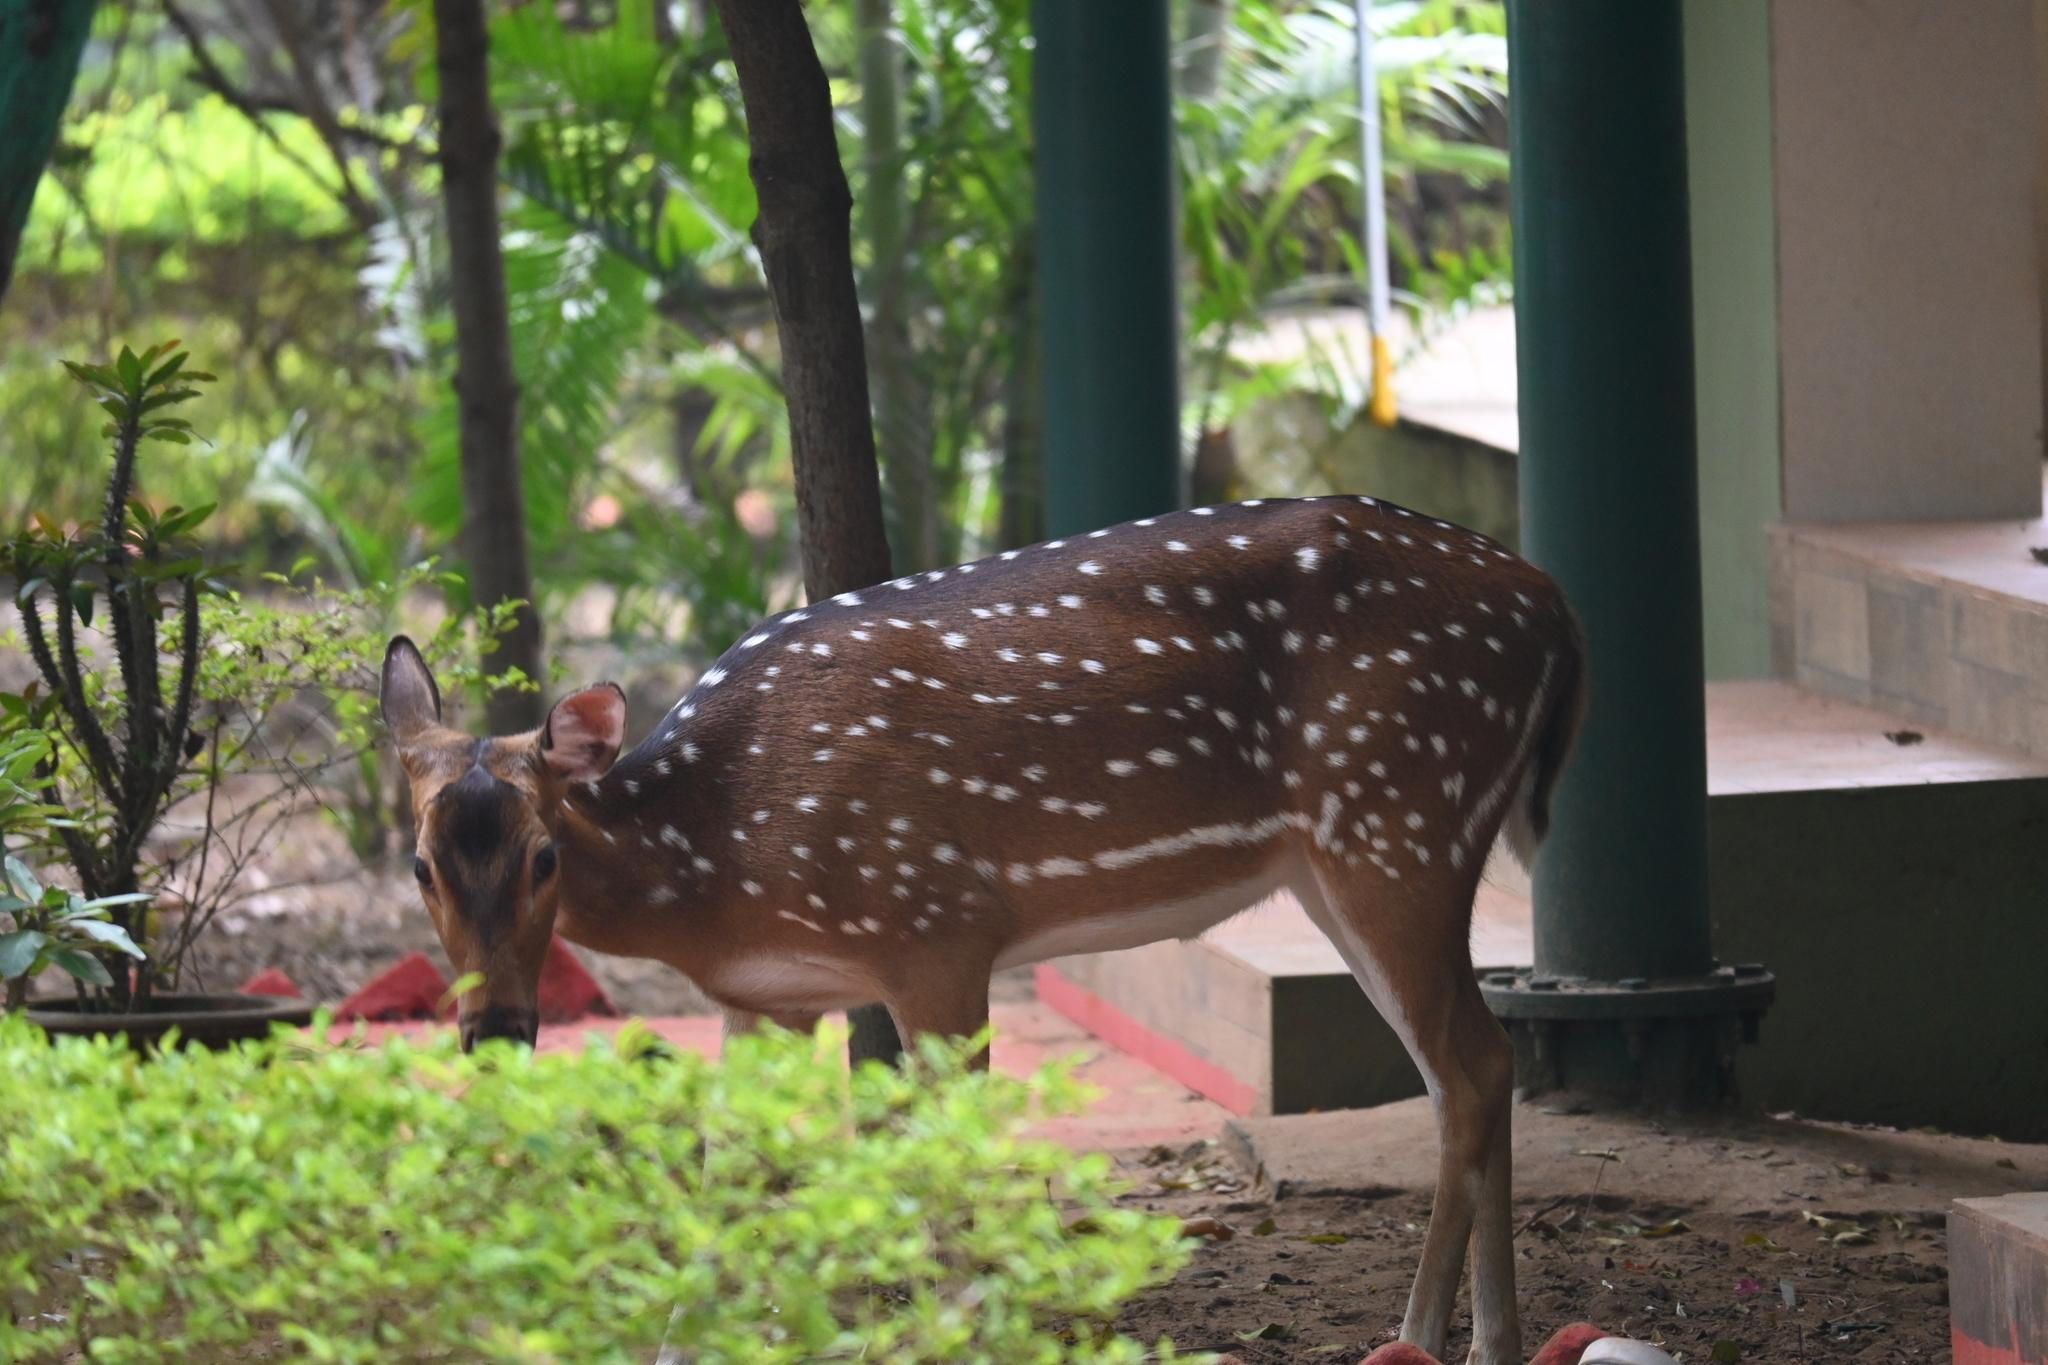Deer: (381, 496, 1583, 1364)
